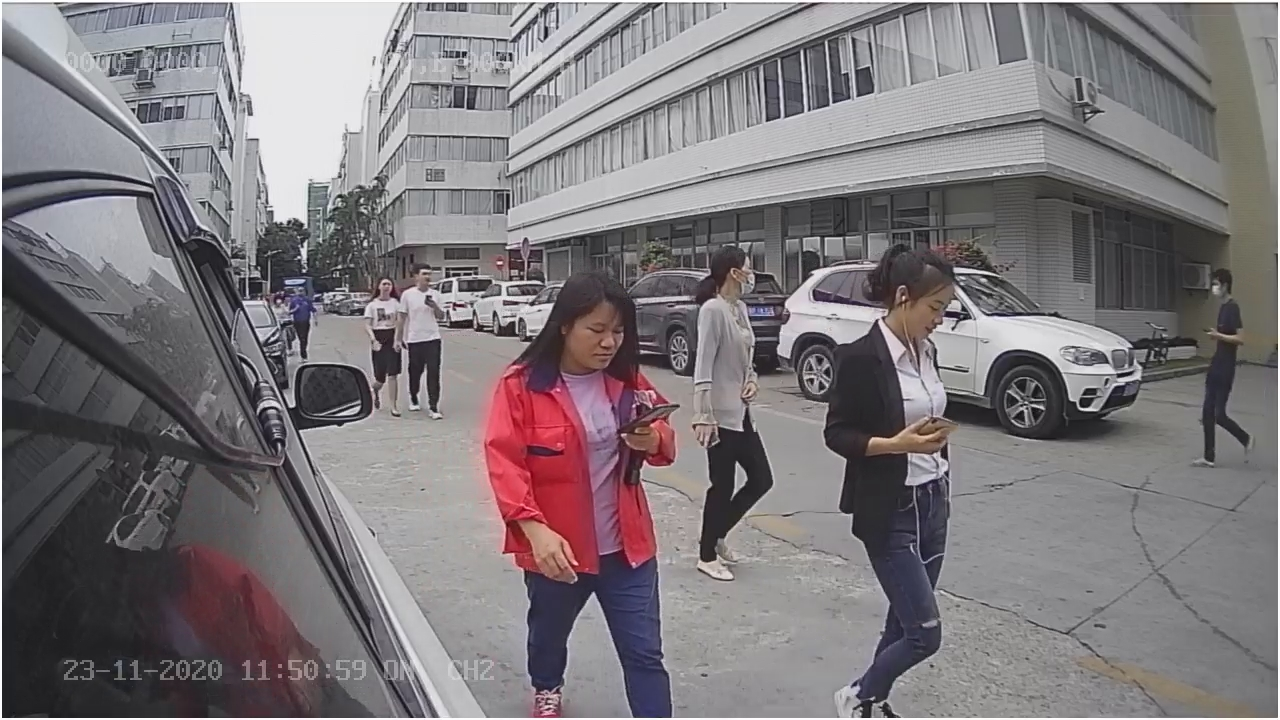person: (825, 233, 958, 720), (688, 243, 781, 581), (1185, 266, 1258, 471), (365, 274, 409, 354)
